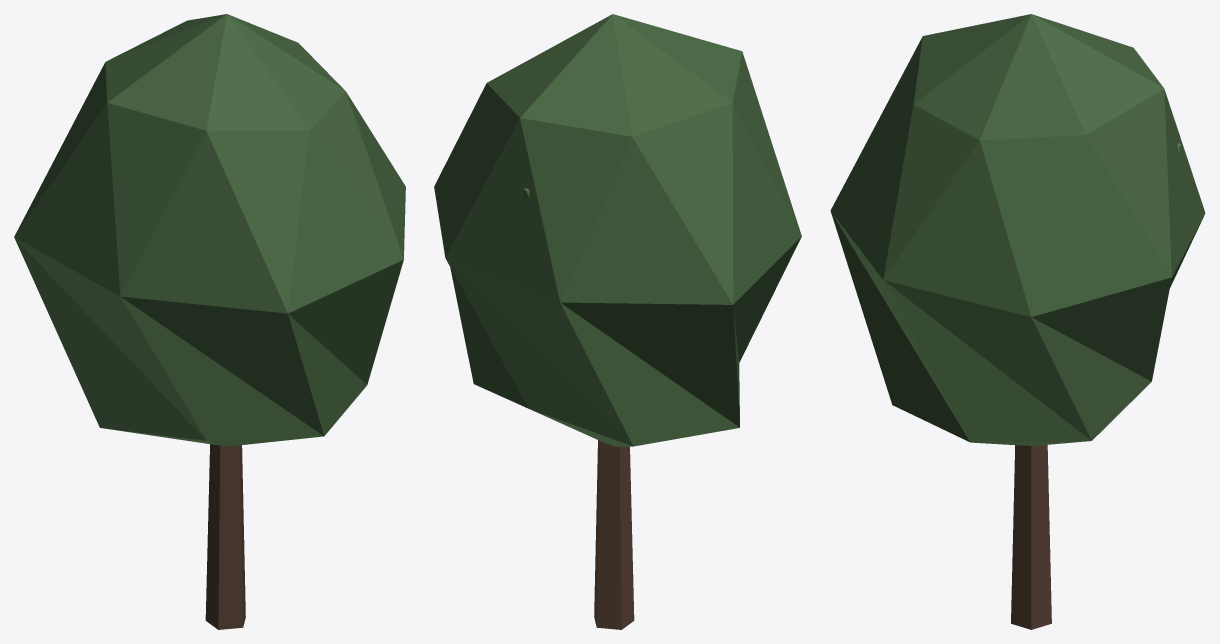
The model's file is tree_cottonwood.glb.
3 renders of one model, left to right at view 1: azimuth 30°, elevation 25°; view 2: azimuth 150°, elevation 25°; view 3: azimuth 270°, elevation 25°, orthographic.
Visible parts, largest first — view 1: tree_cottonwood_Crown, tree_cottonwood; view 2: tree_cottonwood_Crown, tree_cottonwood; view 3: tree_cottonwood_Crown, tree_cottonwood.
Part boxes in pixels (bbox=[...]): tree_cottonwood_Crown: bbox=[14, 14, 405, 445]; tree_cottonwood: bbox=[205, 444, 245, 629]; tree_cottonwood_Crown: bbox=[434, 14, 801, 446]; tree_cottonwood: bbox=[594, 440, 634, 629]; tree_cottonwood_Crown: bbox=[830, 14, 1205, 445]; tree_cottonwood: bbox=[1011, 444, 1051, 629].
Bounding box in the file's own units: 2.4 × 4.04 × 2.26.
